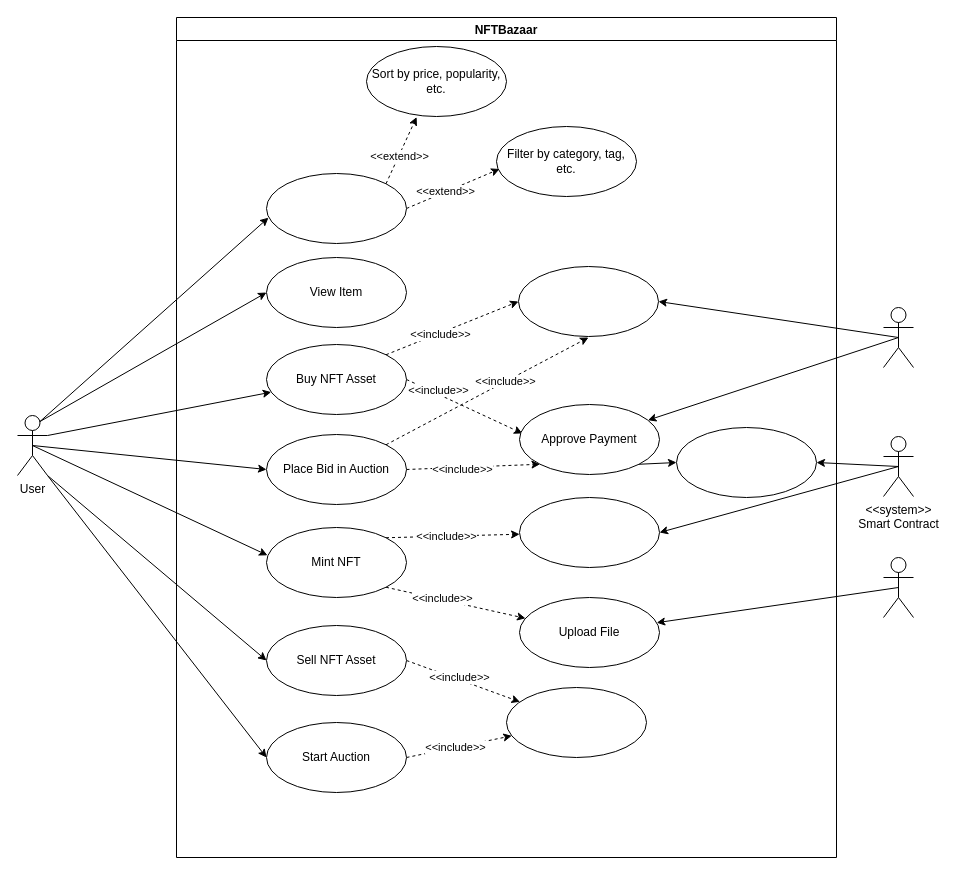
This 962x875 diagram has some shape labels left out. Each missing label, with the centre of its shape:
<<service>> IPFS: (x=898, y=587)
<<service>> Metamask Wallet: (x=898, y=337)
Browse Marketplace: (x=336, y=208)
Connect Wallet: (x=588, y=301)
Deduct amount from wallet: (x=746, y=462)
Set Price: (x=576, y=722)
Transfer NFT to wallet: (x=589, y=532)
